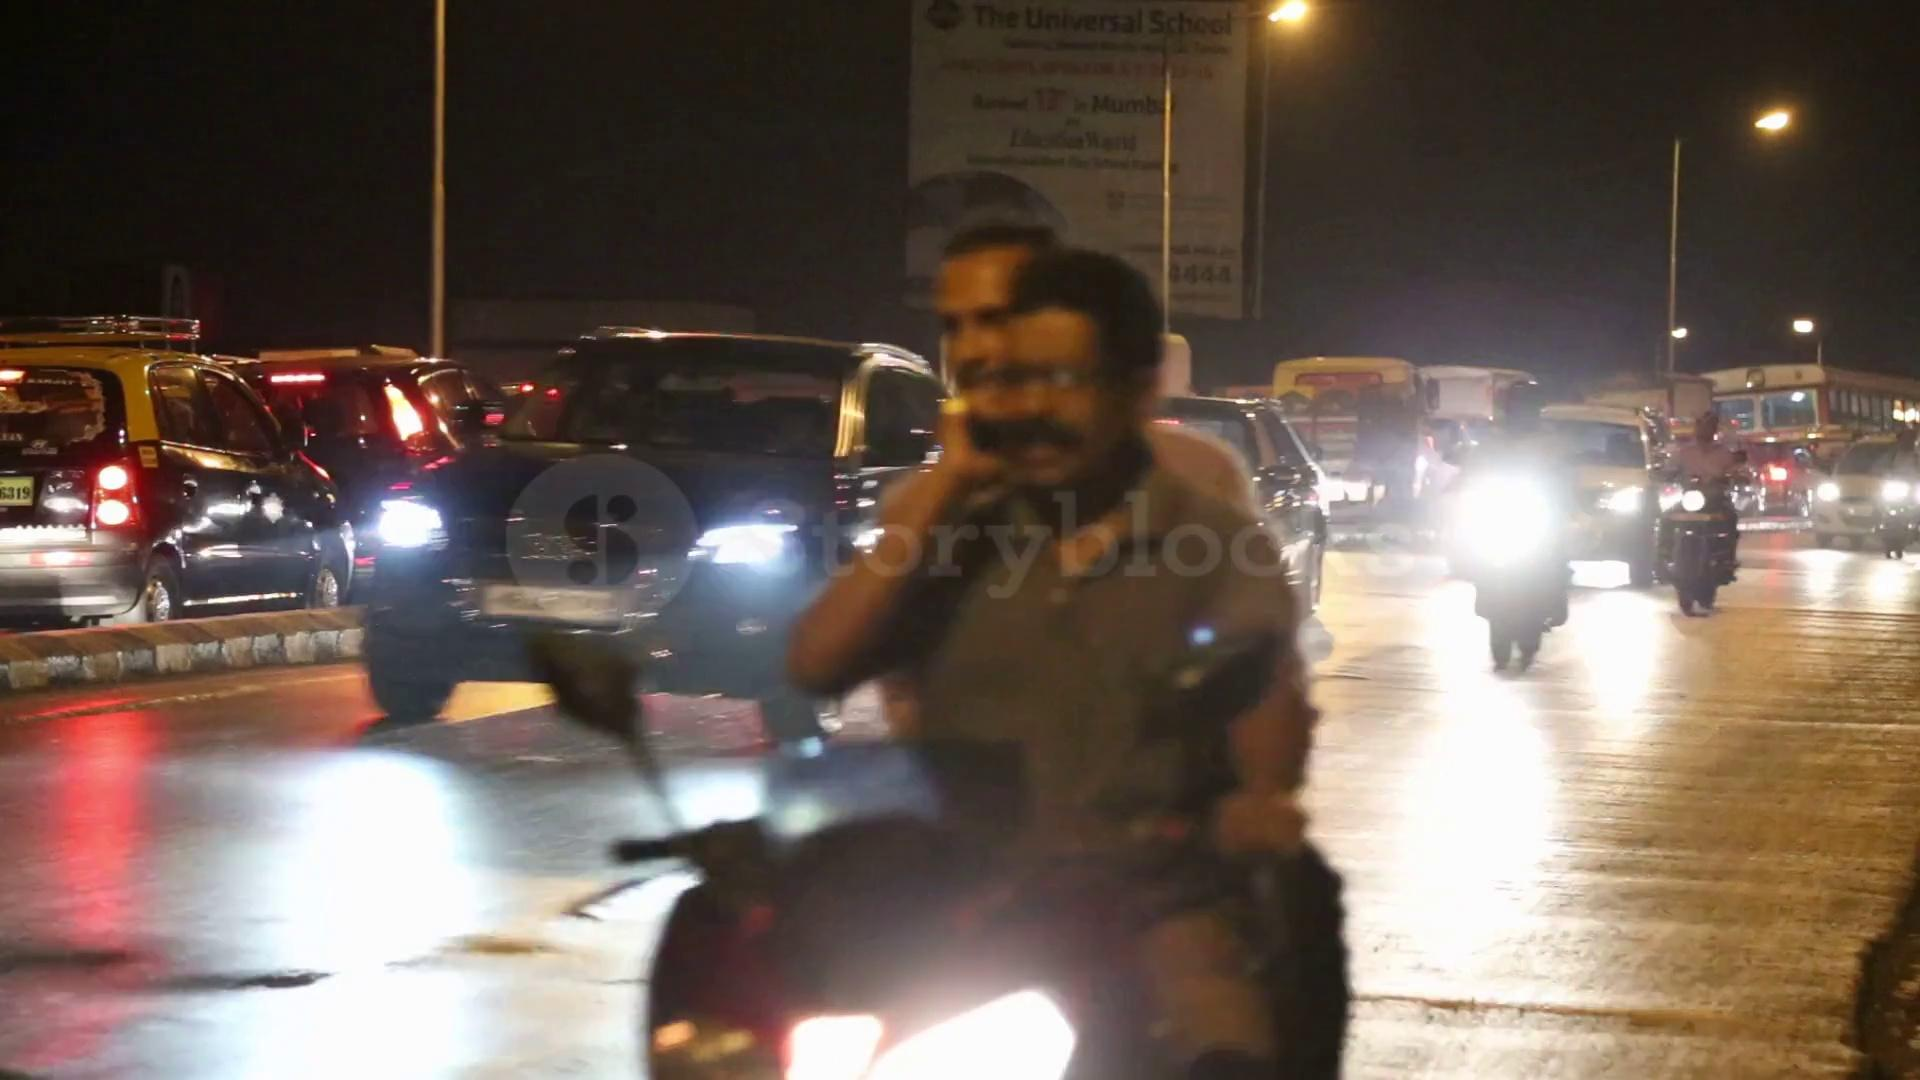rider: (626, 184, 1357, 1080), (1446, 366, 1590, 681), (1661, 399, 1737, 619), (1873, 403, 1920, 559)
without_helmate: (980, 247, 1169, 490)
